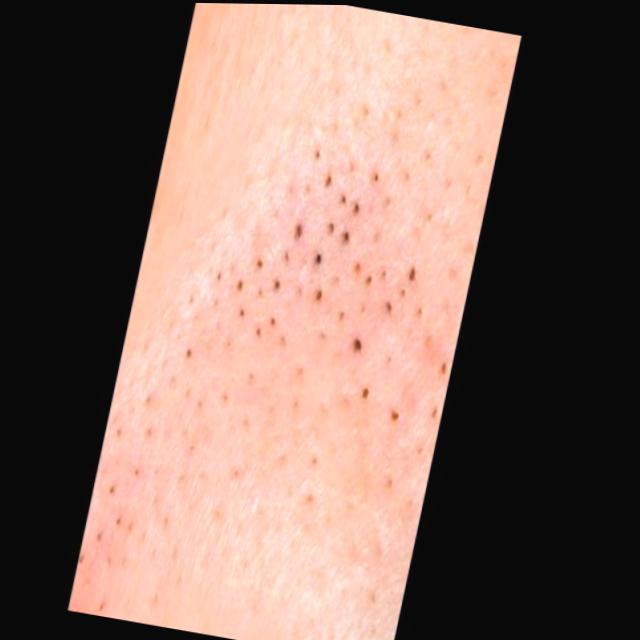blackhead: (184, 117, 452, 459)
